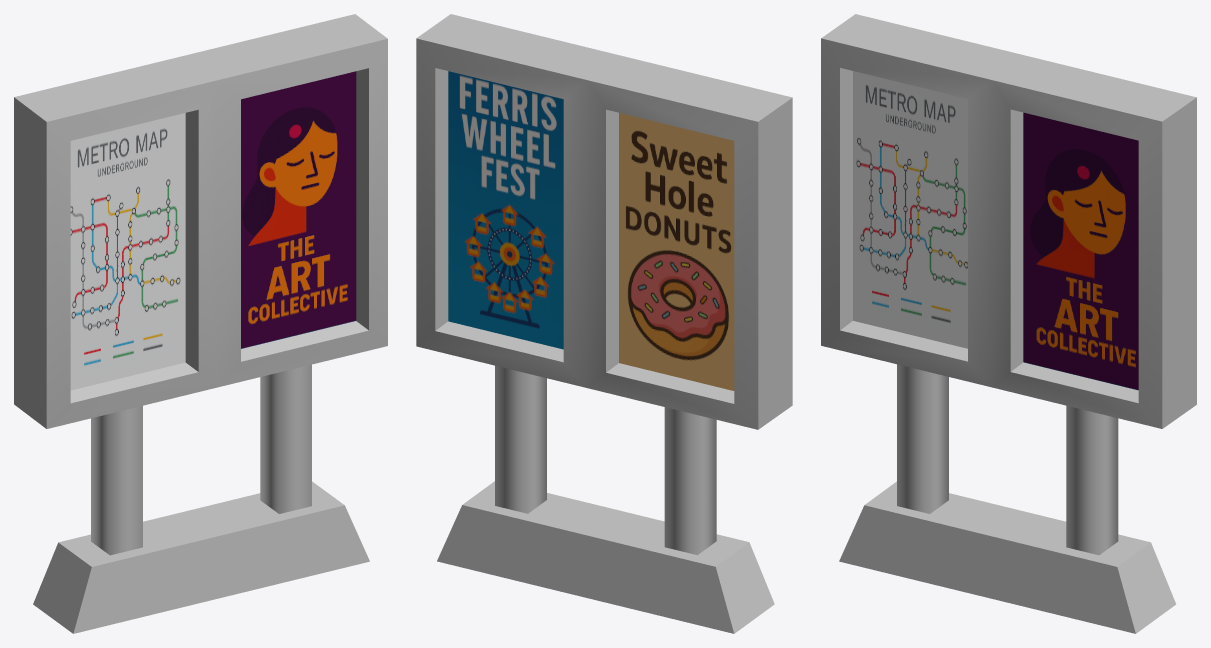
The model's file is Billboard2S.fbx.
3 views of the same model, side by side, from view 1: azimuth 30°, elevation 25°; view 2: azimuth 150°, elevation 25°; view 3: azimuth 330°, elevation 25° (orthographic).
Visible parts, largest first — view 1: Billbord2S; view 2: Billbord2S; view 3: Billbord2S.
Boxes of the visible parts, x1=… form: Billbord2S: x1=14, y1=14, x2=387, y2=633; Billbord2S: x1=416, y1=14, x2=792, y2=633; Billbord2S: x1=821, y1=14, x2=1196, y2=633.
Bounding box in the file's own units: 2.16 × 3.1 × 0.4412.
